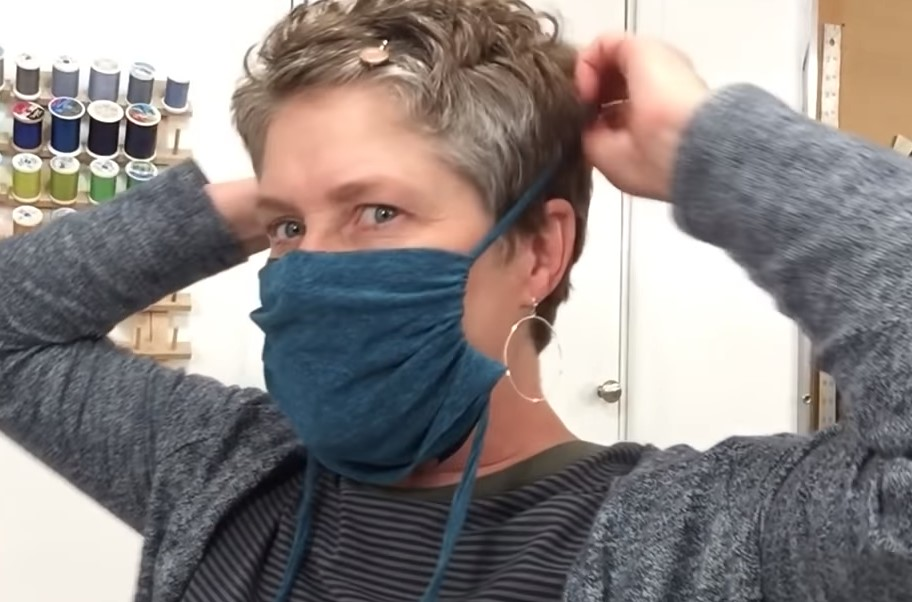face_with_mask: (229, 2, 584, 492)
